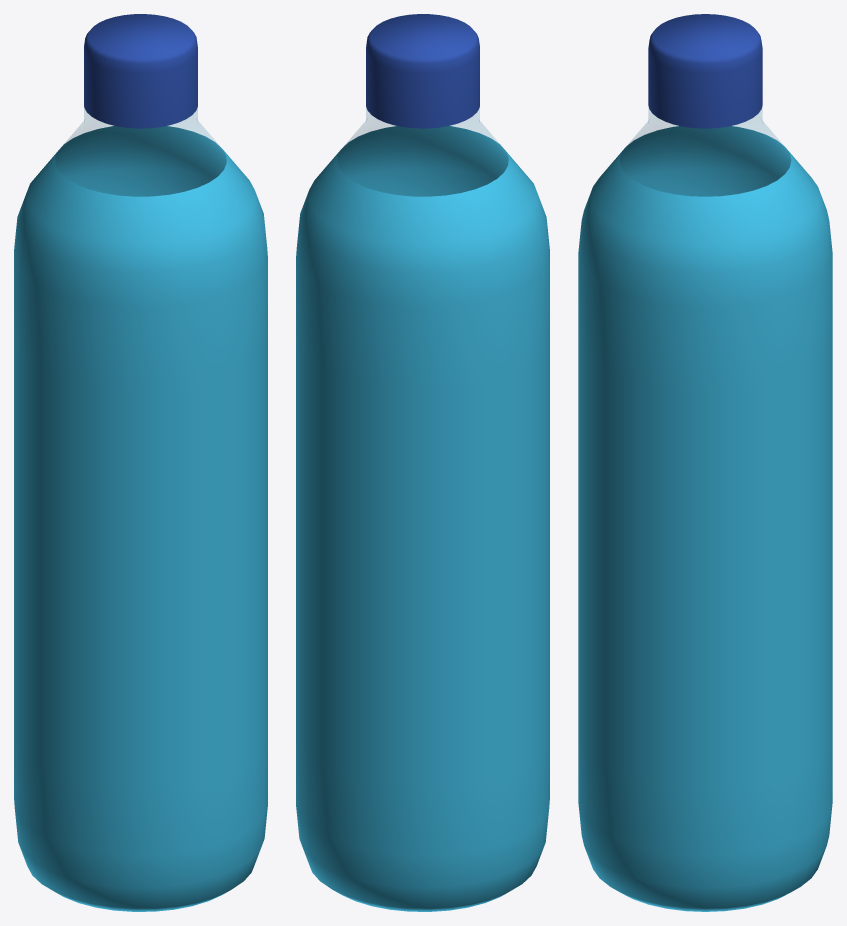
Rendered from Water.fbx.
3 views of the same model, side by side, from view 1: azimuth 30°, elevation 25°; view 2: azimuth 150°, elevation 25°; view 3: azimuth 270°, elevation 25° (orthographic).
Parts seen in each view (by area): view 1: Cylinder.001; view 2: Cylinder.001; view 3: Cylinder.001.
Part boxes in pixels (<box>): Cylinder.001: <box>14,14,267,911</box>; Cylinder.001: <box>296,14,549,911</box>; Cylinder.001: <box>578,14,832,911</box>.
Size of the model in its own units: 6.78 by 24.48 by 6.78.
